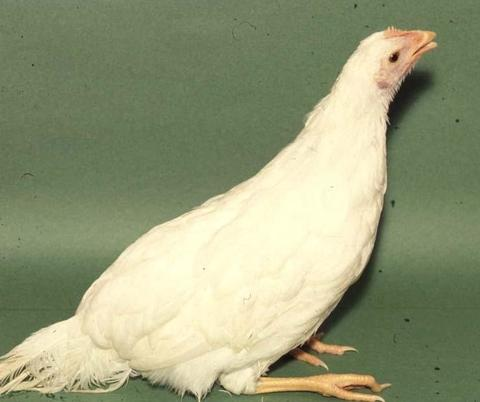AbNormal: (3, 22, 442, 402)
